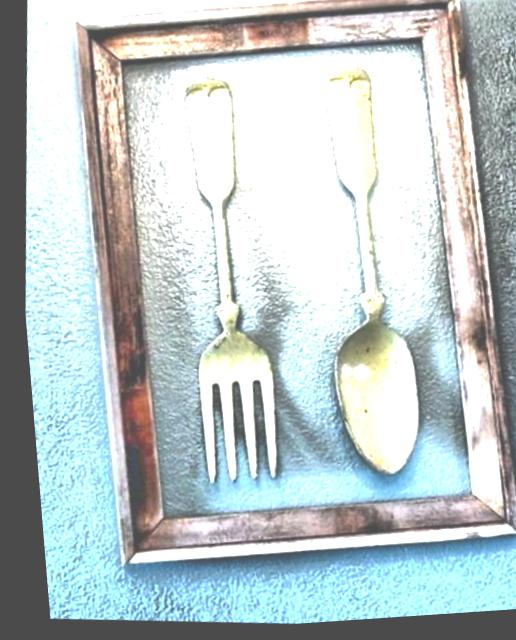Fork: (186, 79, 277, 482)
Spoon: (325, 68, 419, 474)
